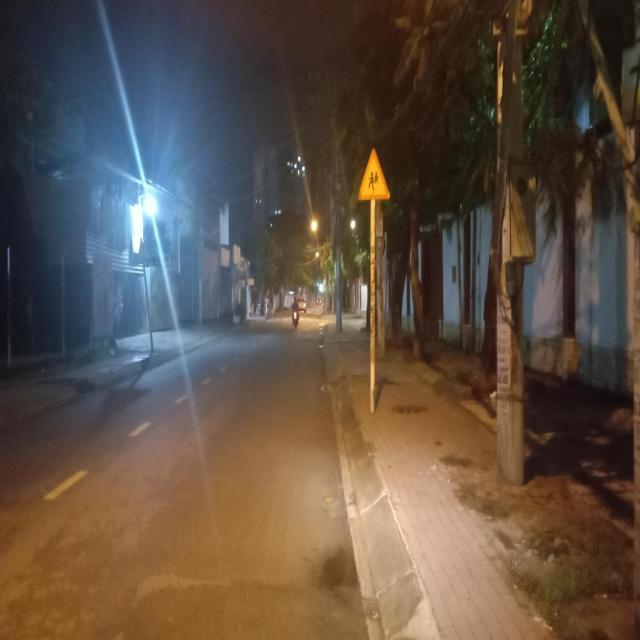chu_y_tre_em: (356, 145, 392, 200)
